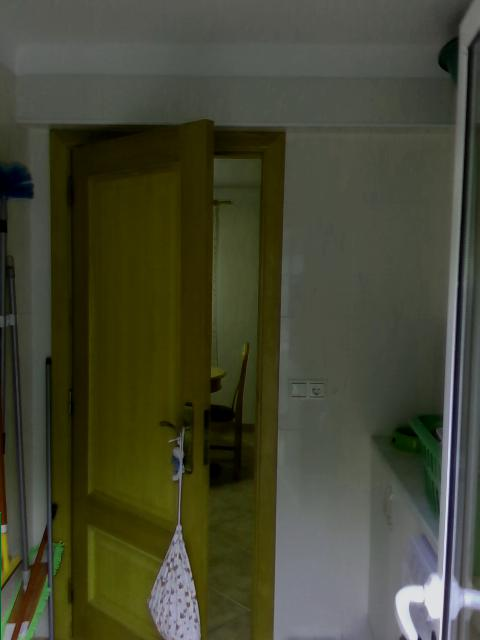semi_door: (41, 115, 286, 639)
